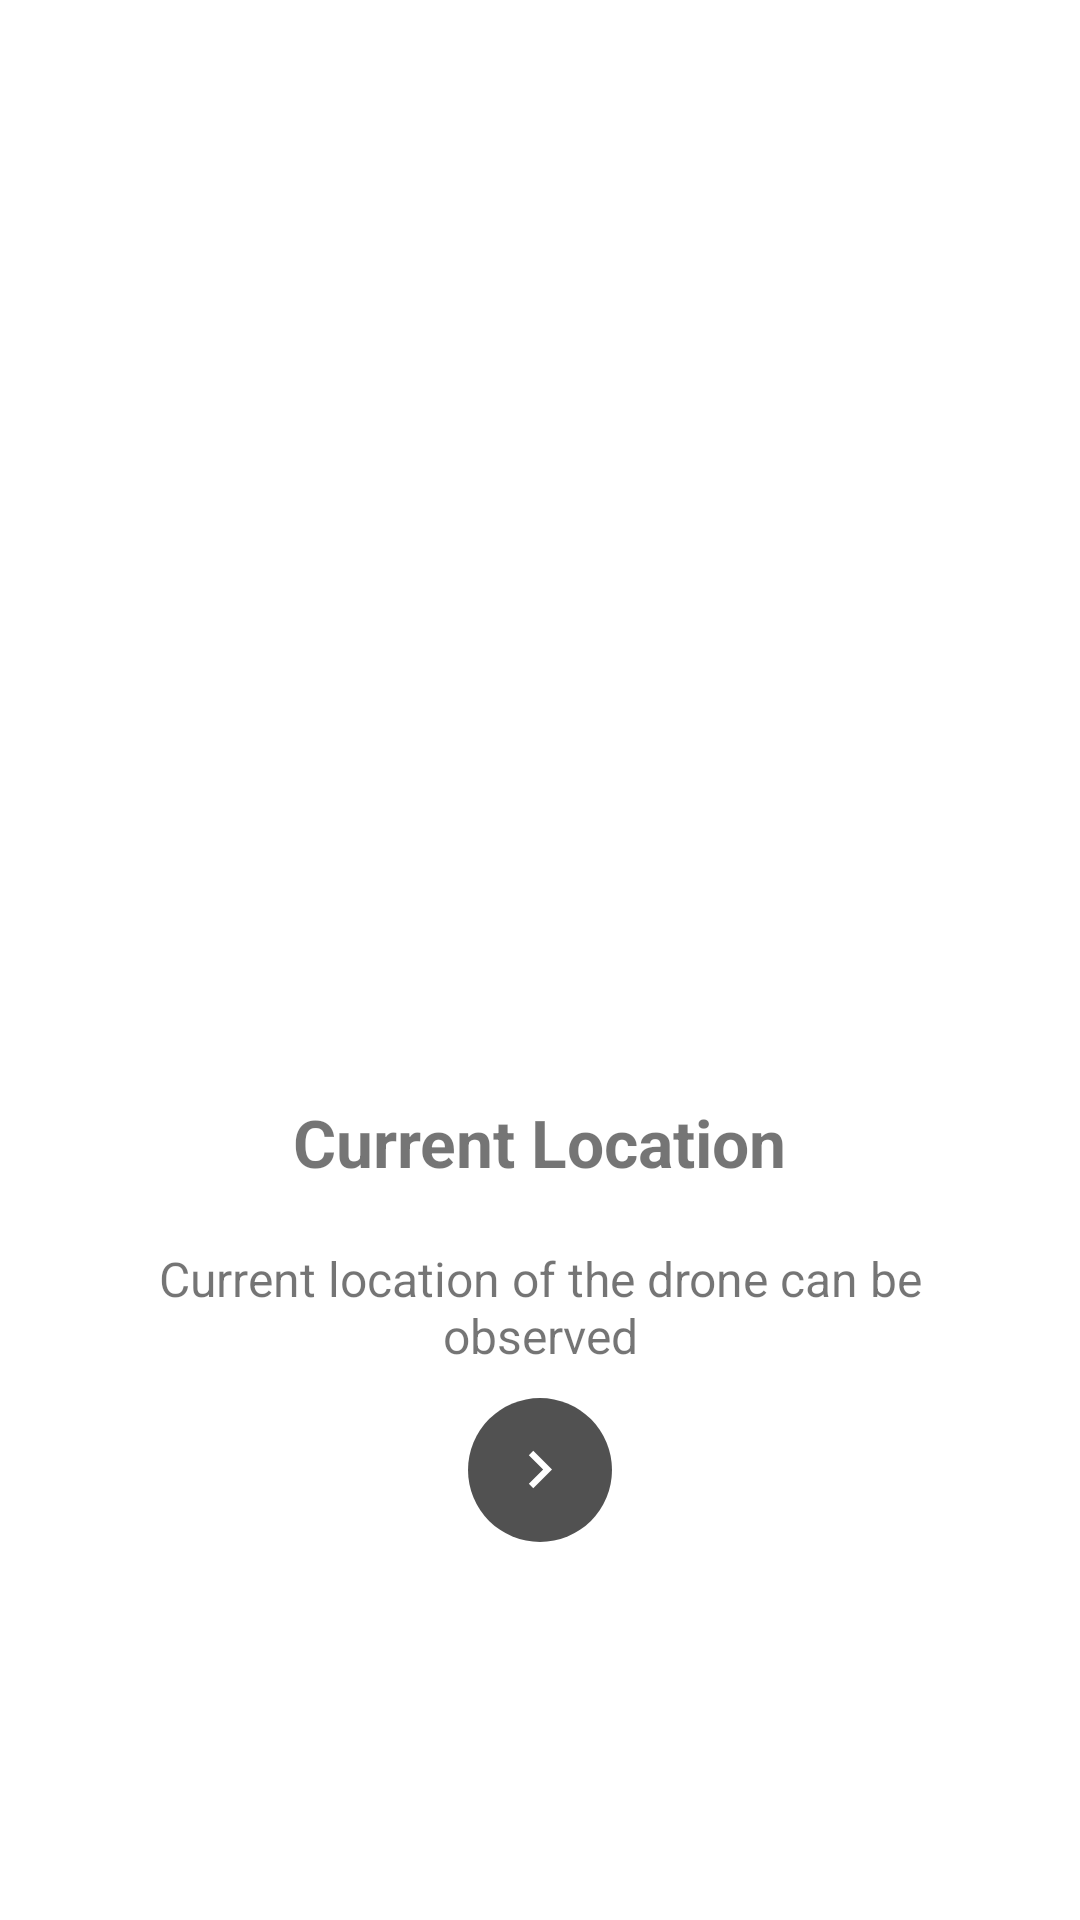

Locate icon controls on the screen. Image size 1080px x 1920px, boxes as [x1,y1,x2,y2].
next: [529,1451,552,1488]
